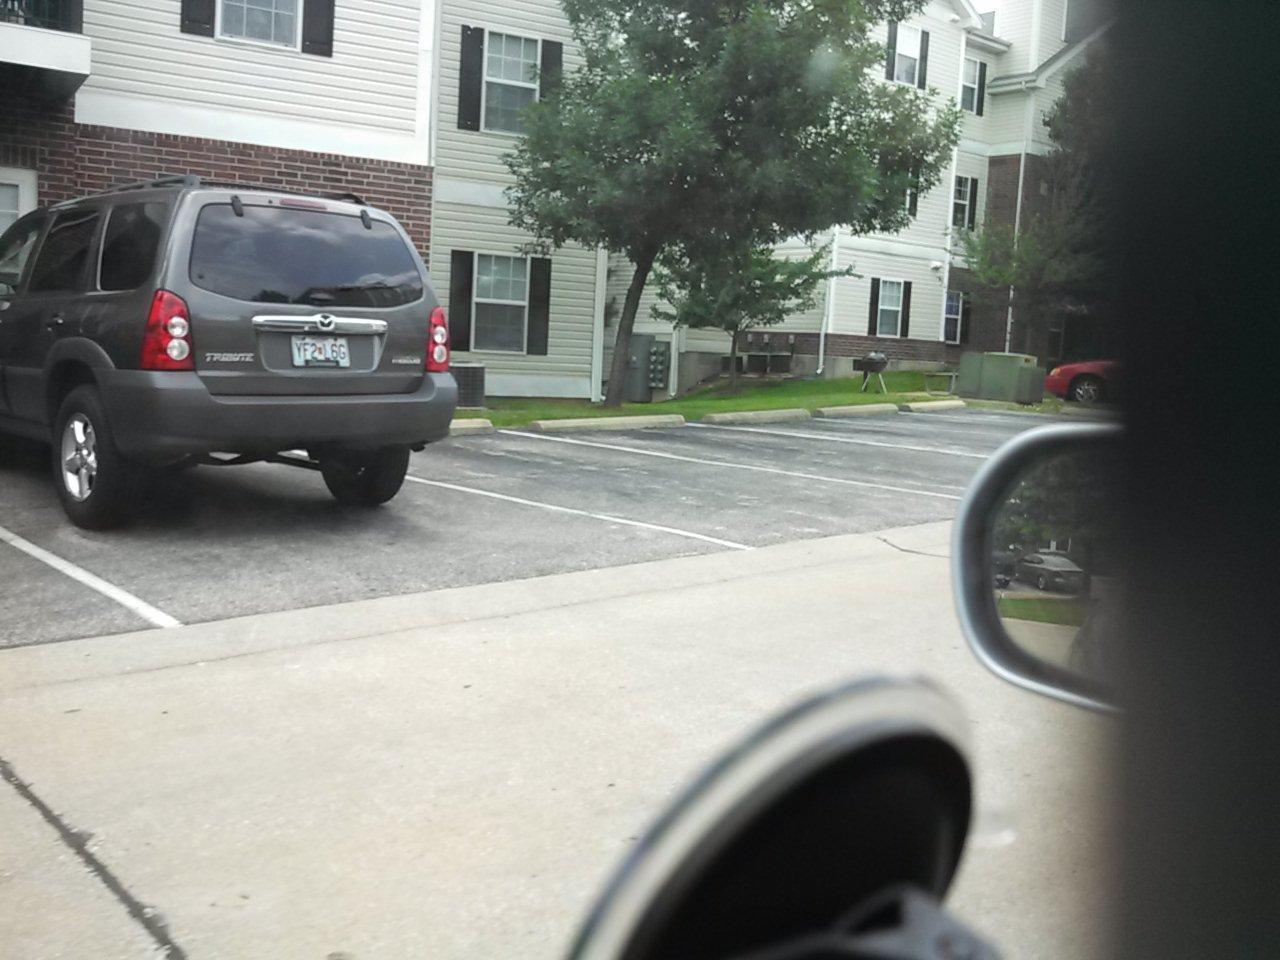placa de veiculo: (278, 316, 363, 378)
